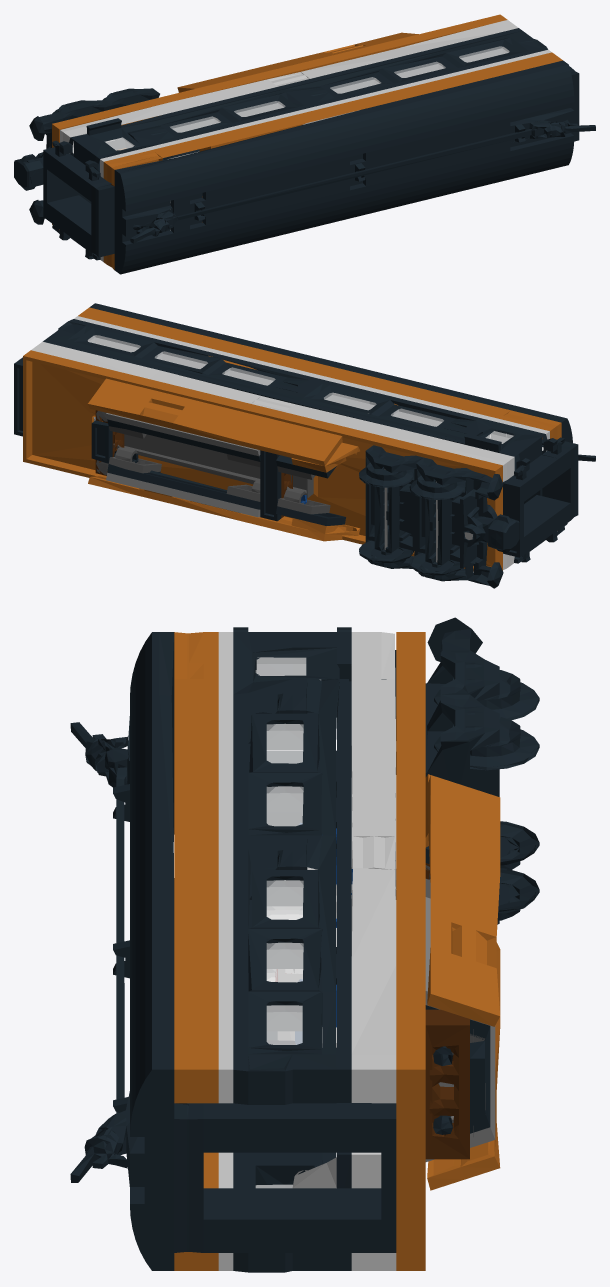
The model's file is coach-2.glb.
3 renders of one model, top to bottom at view 1: azimuth 30°, elevation 25°; view 2: azimuth 150°, elevation 25°; view 3: azimuth 270°, elevation 25°, orthographic. The views are drawn at different scales.
Size of the model in its own units: 244 by 55.2 by 101.
